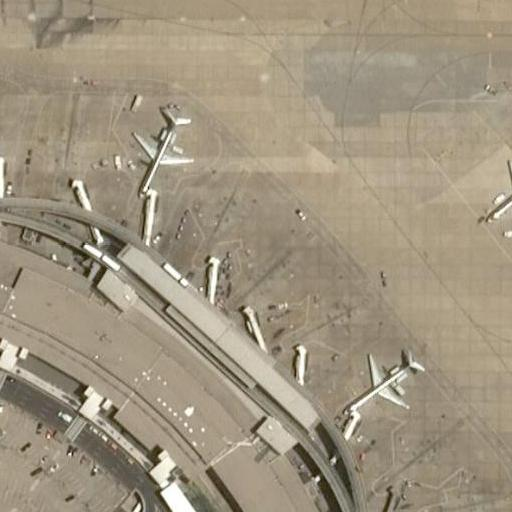Aircraft: (345, 335, 434, 422), (122, 98, 197, 195), (474, 136, 512, 229)
